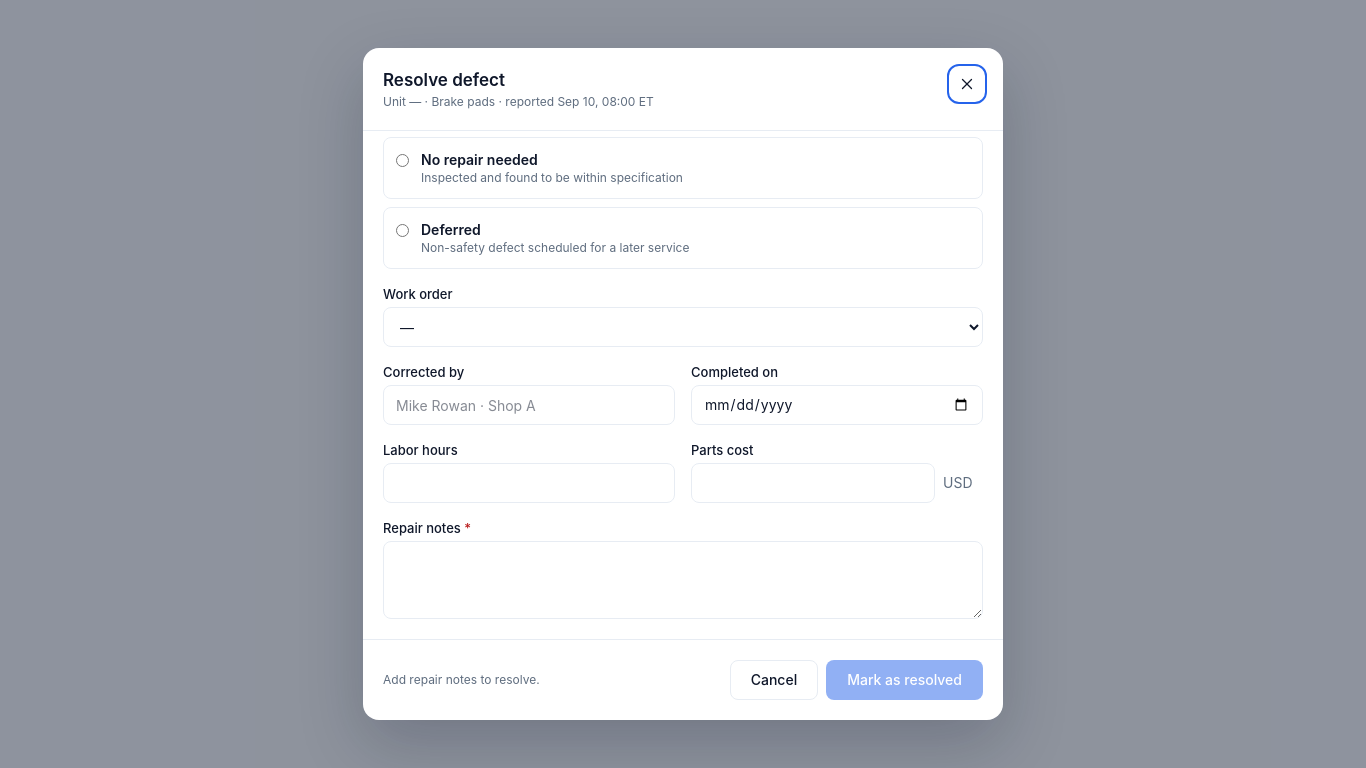
ResolveDefectModal — 11.17 › surfaces a failed resolve in an in-modal banner instead of silence
The width and height of the screenshot is (1366, 768).
(page scrolled)
Type "Replaced pads" into the text box labelled "Repair notes *" at (683, 580), box x1=383 y1=541 x2=983 y2=619
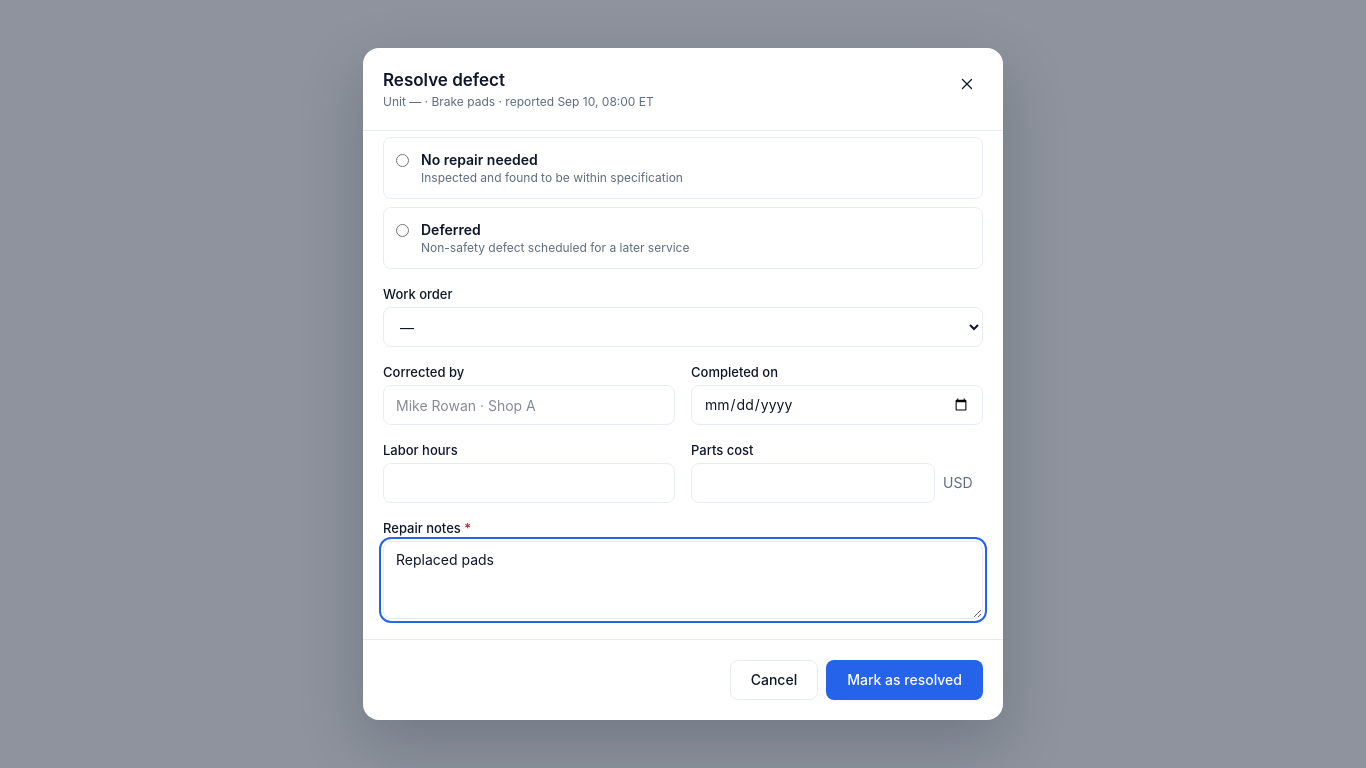
Click the button "Mark as resolved" at (905, 680), box x1=826 y1=660 x2=983 y2=700
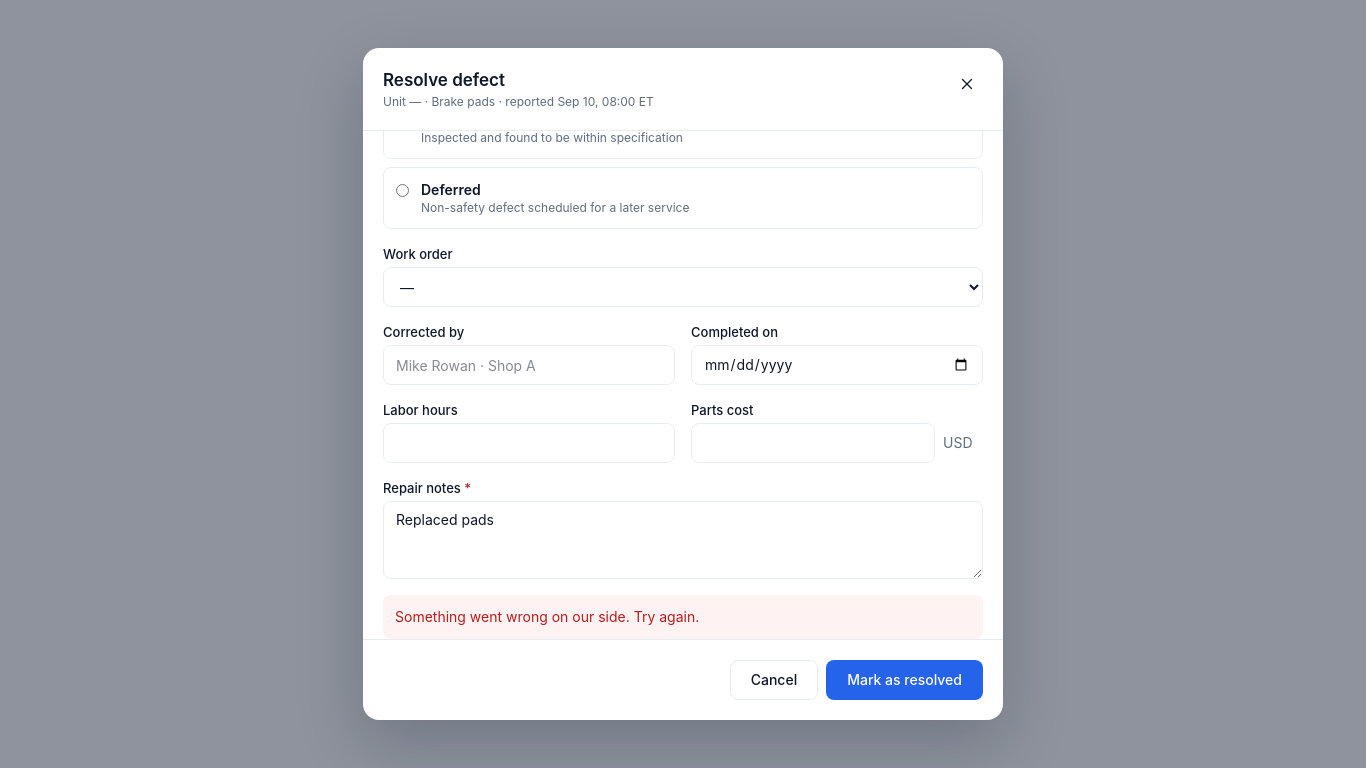
expect the message "Something went wrong on our side. Try again." is shown: met, box x1=383 y1=595 x2=983 y2=639
